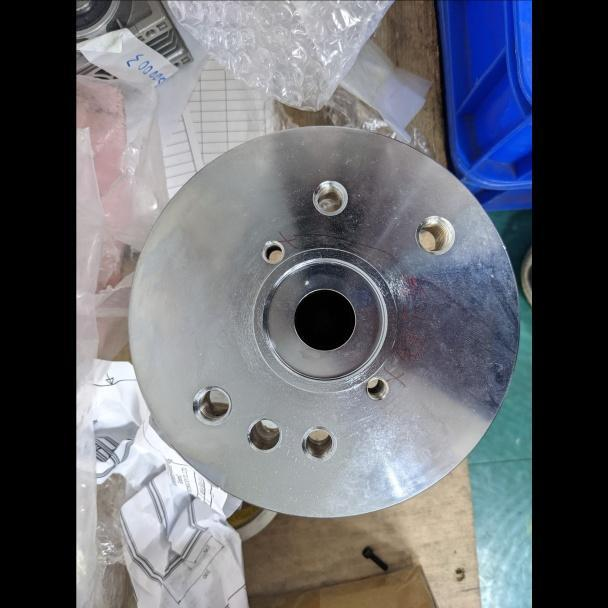hole: (410, 210, 460, 263), (306, 171, 356, 221), (294, 420, 343, 466), (187, 382, 236, 427), (242, 412, 287, 456), (252, 235, 290, 269), (361, 372, 392, 404)
